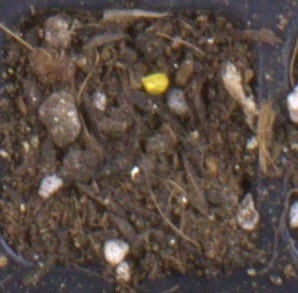chilli seed: (139, 71, 169, 95)
